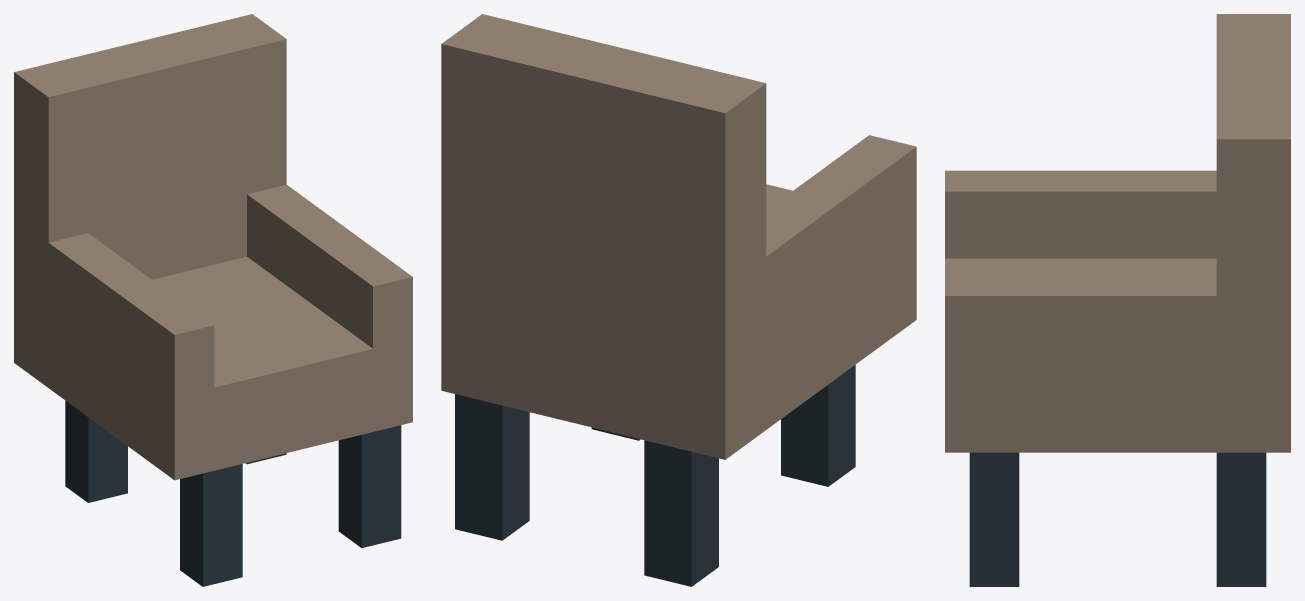
Rendered from legal-18.glb.
The picture shows the model from 3 angles, left to right: view 1: azimuth 30°, elevation 25°; view 2: azimuth 150°, elevation 25°; view 3: azimuth 270°, elevation 25°; orthographic projection. The views are drawn at different scales.
Parts seen in each view (by area): view 1: Client chair; view 2: Client chair; view 3: Client chair.
Boxes of the visible parts, left/top/right/bottom form: Client chair: left=14, top=14, right=412, bottom=586; Client chair: left=441, top=14, right=916, bottom=586; Client chair: left=945, top=14, right=1290, bottom=586.
Size of the model in its own units: 0.96 by 1.6 by 1.12.
